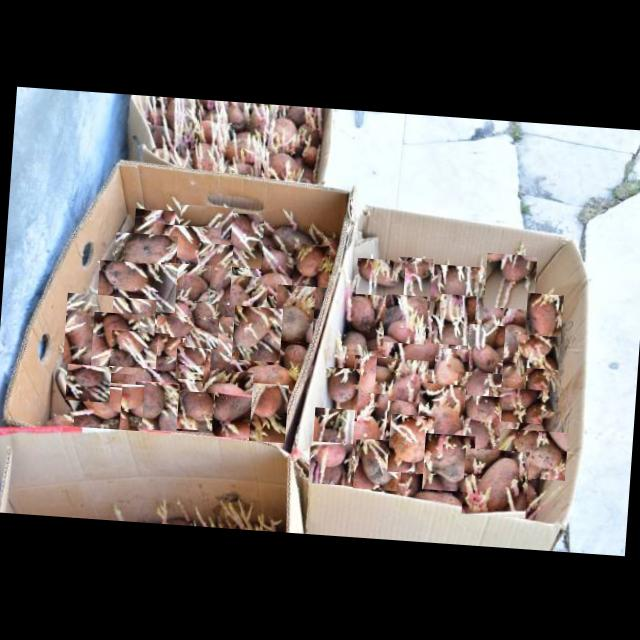Sprouted potato: (460, 446, 528, 516), (96, 258, 176, 312), (488, 426, 566, 479), (61, 292, 112, 364), (149, 222, 220, 273), (339, 389, 387, 456), (428, 262, 485, 318), (392, 314, 447, 372), (420, 432, 474, 491), (415, 381, 465, 444), (89, 310, 139, 373), (112, 230, 176, 278), (482, 252, 536, 308), (212, 210, 264, 268), (264, 207, 326, 255), (512, 398, 564, 455), (230, 304, 282, 361), (386, 412, 434, 473), (376, 374, 426, 432), (453, 369, 501, 426), (176, 202, 232, 250), (457, 393, 501, 454), (85, 294, 155, 332), (236, 352, 294, 397), (372, 356, 428, 402), (522, 292, 562, 356), (272, 282, 314, 342), (200, 368, 252, 415), (352, 436, 398, 489), (108, 328, 168, 368), (248, 382, 288, 442), (131, 379, 178, 430), (350, 353, 392, 410), (214, 273, 267, 318), (478, 310, 532, 354), (194, 242, 232, 304), (430, 292, 475, 344), (382, 292, 427, 344), (240, 264, 304, 300), (311, 406, 354, 458), (197, 324, 240, 376), (72, 383, 121, 428), (154, 314, 218, 348), (486, 384, 542, 422), (514, 332, 560, 378), (321, 366, 359, 420), (158, 261, 210, 300), (306, 440, 352, 484), (210, 390, 252, 438), (354, 256, 404, 296), (465, 322, 504, 372), (64, 362, 110, 402), (104, 382, 143, 429), (290, 242, 330, 286), (333, 319, 368, 369), (522, 366, 560, 411), (172, 389, 213, 430), (394, 256, 432, 300), (432, 346, 468, 392), (132, 207, 174, 246), (254, 239, 298, 275), (416, 260, 450, 306), (493, 354, 530, 396), (316, 222, 347, 263), (173, 345, 210, 379), (154, 334, 184, 370)
